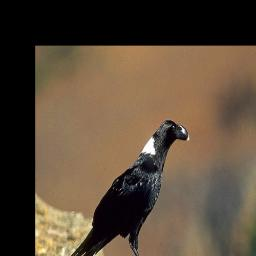Crow: (69, 118, 191, 256)
